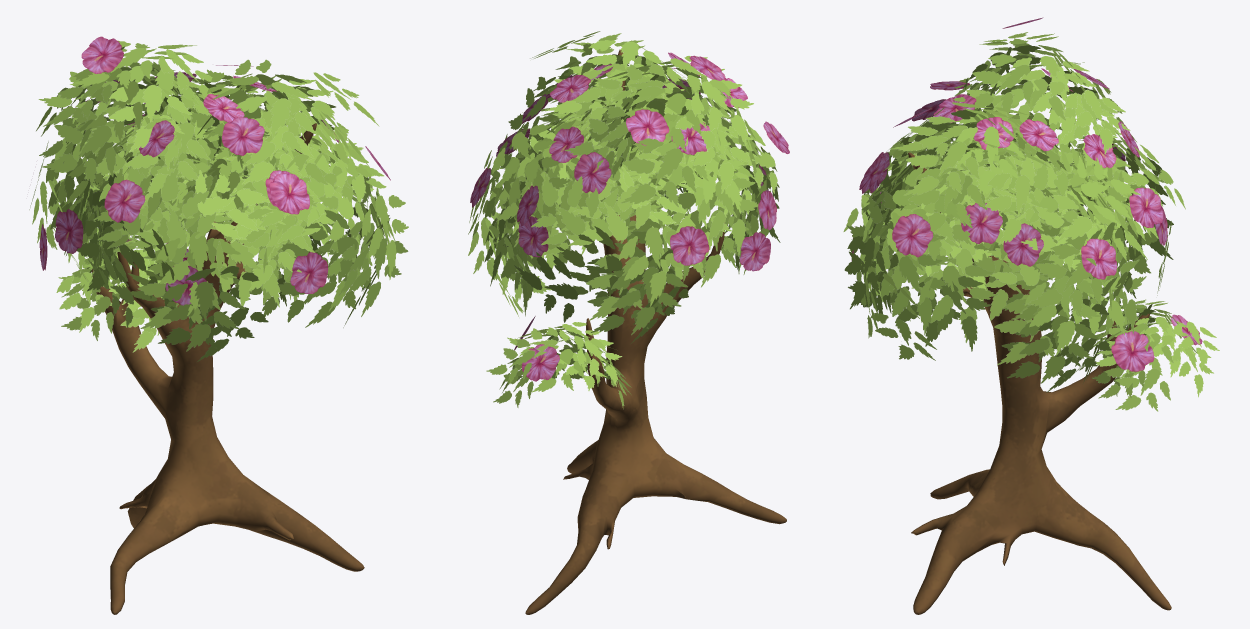
The model's file is Hibiscus_Fleur.fbx.
The picture shows the model from 3 angles, left to right: view 1: azimuth 30°, elevation 25°; view 2: azimuth 150°, elevation 25°; view 3: azimuth 270°, elevation 25°; orthographic projection. The views are drawn at different scales.
Parts seen in each view (by area): view 1: Hibiscus1, Fleur6 (×2), Fleur8 (×2), Leaves171, Leaves168, Leaves244, Leaves169, Leaves305, Leaves170, Leaves163, Leaves246, Leaves245 (+49 smaller); view 2: Hibiscus1, Fleur2 (×3), Fleur3 (×3), Leaves255, Leaves141, Fleur (×2), Leaves143, Leaves145, Leaves142, Leaves90, Leaves251, Leaves117 (+41 smaller); view 3: Hibiscus1, Fleur5 (×2), Fleur (×2), Fleur7 (×3), Leaves115, Leaves302, Leaves226, Leaves187, Leaves194, Leaves307, Leaves225, Leaves301 (+43 smaller).
Part boxes in pixels (x1=…): Hibiscus1: x1=91, y1=123, x2=364, y2=614; Fleur6 (×2): x1=104, y1=173, x2=309, y2=222; Fleur8 (×2): x1=139, y1=117, x2=264, y2=157; Leaves171: x1=136, y1=164, x2=216, y2=248; Leaves168: x1=161, y1=281, x2=245, y2=351; Leaves244: x1=42, y1=107, x2=115, y2=187; Leaves169: x1=156, y1=231, x2=240, y2=315; Leaves305: x1=236, y1=96, x2=316, y2=167; Leaves170: x1=195, y1=170, x2=270, y2=238; Leaves163: x1=219, y1=226, x2=282, y2=307; Leaves246: x1=108, y1=85, x2=192, y2=152; Leaves245: x1=125, y1=131, x2=210, y2=202; Hibiscus1: x1=525, y1=49, x2=786, y2=614; Fleur2 (×3): x1=518, y1=190, x2=776, y2=265; Fleur3 (×3): x1=549, y1=55, x2=725, y2=162; Leaves255: x1=621, y1=138, x2=696, y2=207; Leaves141: x1=531, y1=172, x2=599, y2=245; Fleur (×2): x1=517, y1=152, x2=611, y2=226; Leaves143: x1=619, y1=227, x2=684, y2=306; Leaves145: x1=573, y1=180, x2=650, y2=240; Leaves142: x1=611, y1=267, x2=687, y2=335; Leaves90: x1=698, y1=177, x2=758, y2=256; Leaves251: x1=691, y1=79, x2=753, y2=145; Leaves117: x1=492, y1=124, x2=555, y2=189; Hibiscus1: x1=908, y1=152, x2=1171, y2=614; Fleur5 (×2): x1=961, y1=203, x2=1117, y2=279; Fleur (×2): x1=1003, y1=187, x2=1163, y2=266; Fleur7 (×3): x1=933, y1=94, x2=1058, y2=151; Leaves115: x1=1026, y1=244, x2=1102, y2=316; Leaves302: x1=903, y1=136, x2=979, y2=195; Leaves226: x1=1024, y1=275, x2=1103, y2=355; Leaves187: x1=919, y1=265, x2=998, y2=342; Leaves194: x1=881, y1=254, x2=948, y2=335; Leaves307: x1=985, y1=173, x2=1045, y2=245; Leaves225: x1=1018, y1=315, x2=1098, y2=383; Leaves301: x1=908, y1=168, x2=984, y2=232.
Bounding box in the file's own units: 10.43 × 17.47 × 11.75.
8 materials, 8 textured.
